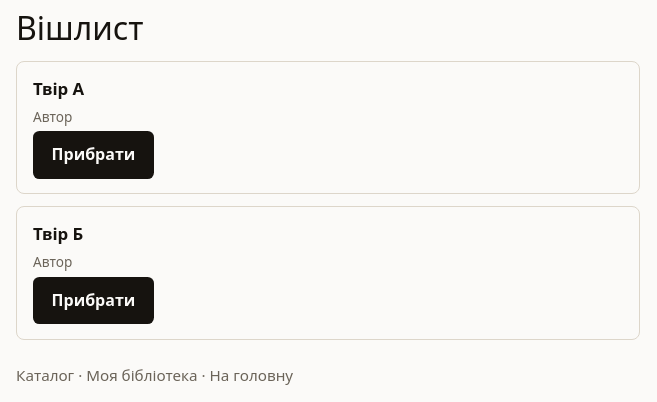
паралельне «Прибрати» на двох різних рядках: успіх одного не воскрешає провал іншого
expect the link "Твір А" is shown: met, box [33,77,84,100]
expect the link "Твір Б" is shown: met, box [33,222,83,245]
Click the button "Прибрати" below "Твір А" at (93, 155), box [33,131,154,179]
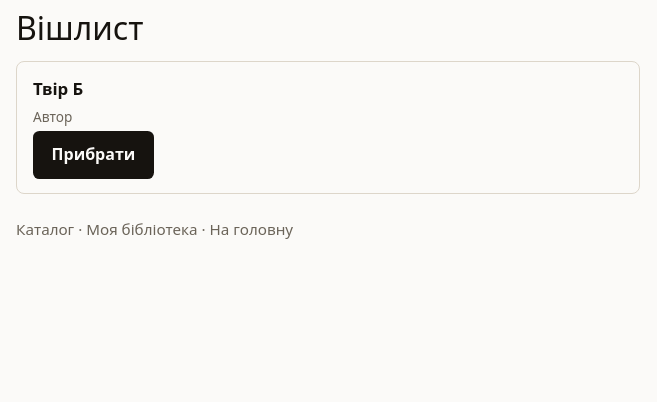
Click the button "Прибрати" at (93, 155), box [33,131,154,179]
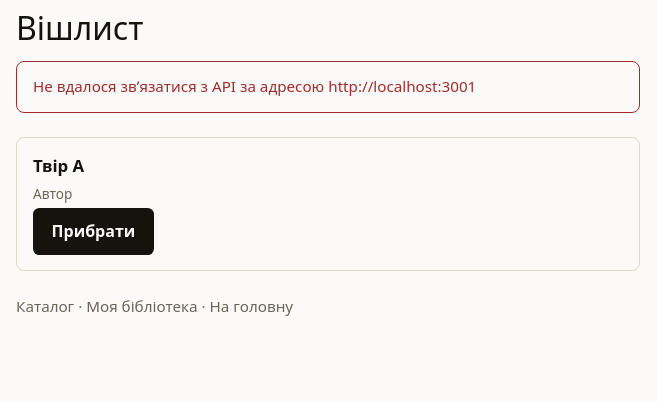
expect the link "Твір А" is shown: met, box [33,154,84,177]
expect the link "Твір Б" is gone: met
